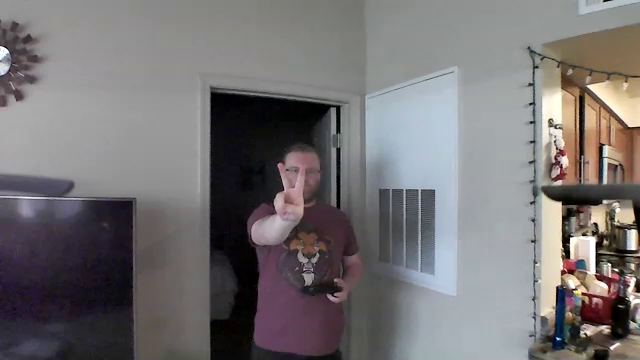peace: (264, 154, 313, 218)
